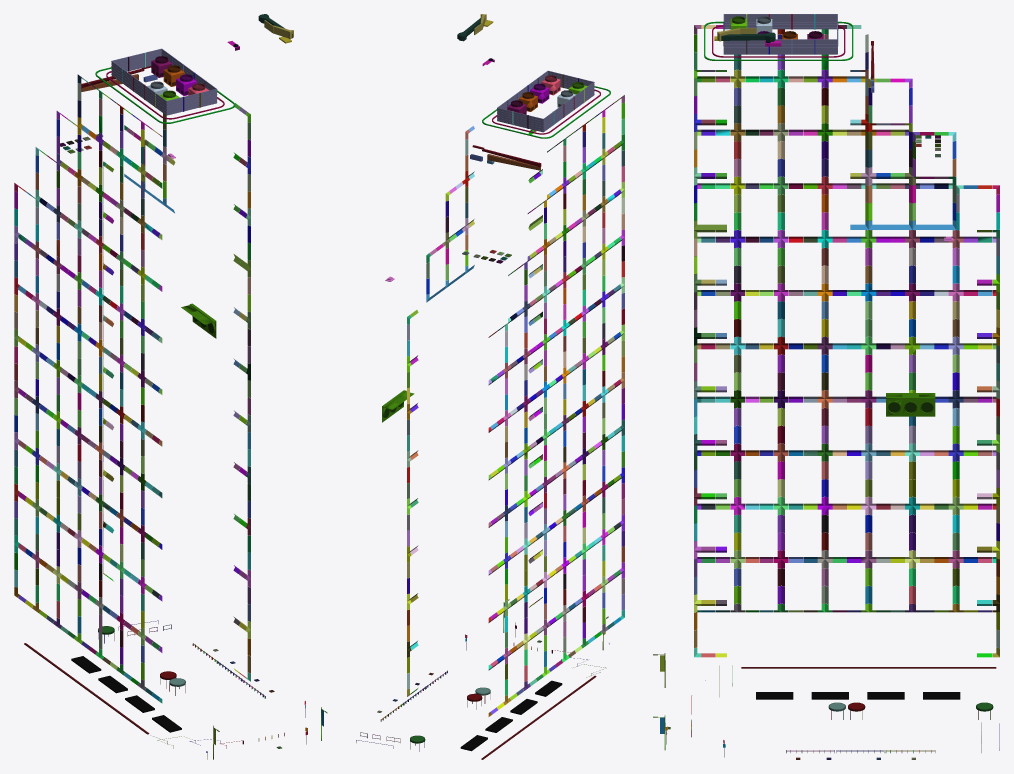
3 renders of one model, left to right at view 1: azimuth 30°, elevation 25°; view 2: azimuth 150°, elevation 25°; view 3: azimuth 270°, elevation 25°, orthographic. The views are drawn at different scales.
Parts seen in each view (by area): view 1: Cladding primary, Ground details; view 2: Cladding primary, Ground details; view 3: Cladding primary, Ground details.
Boxes of the visible parts, x1=… form: Cladding primary: x1=14, y1=74, x2=250, y2=703; Ground details: x1=24, y1=14, x2=327, y2=759; Cladding primary: x1=407, y1=95, x2=624, y2=716; Ground details: x1=356, y1=14, x2=610, y2=759; Cladding primary: x1=694, y1=25, x2=999, y2=657; Ground details: x1=653, y1=14, x2=999, y2=759.
Size of the model in its own units: 21.99 by 90.02 by 39.48.
Materials: 2 (2 with a texture image).
